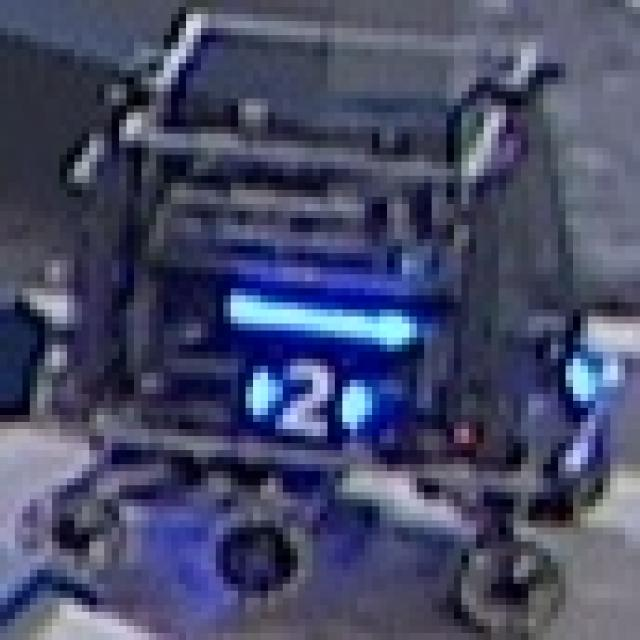B2: (234, 338, 384, 443)
